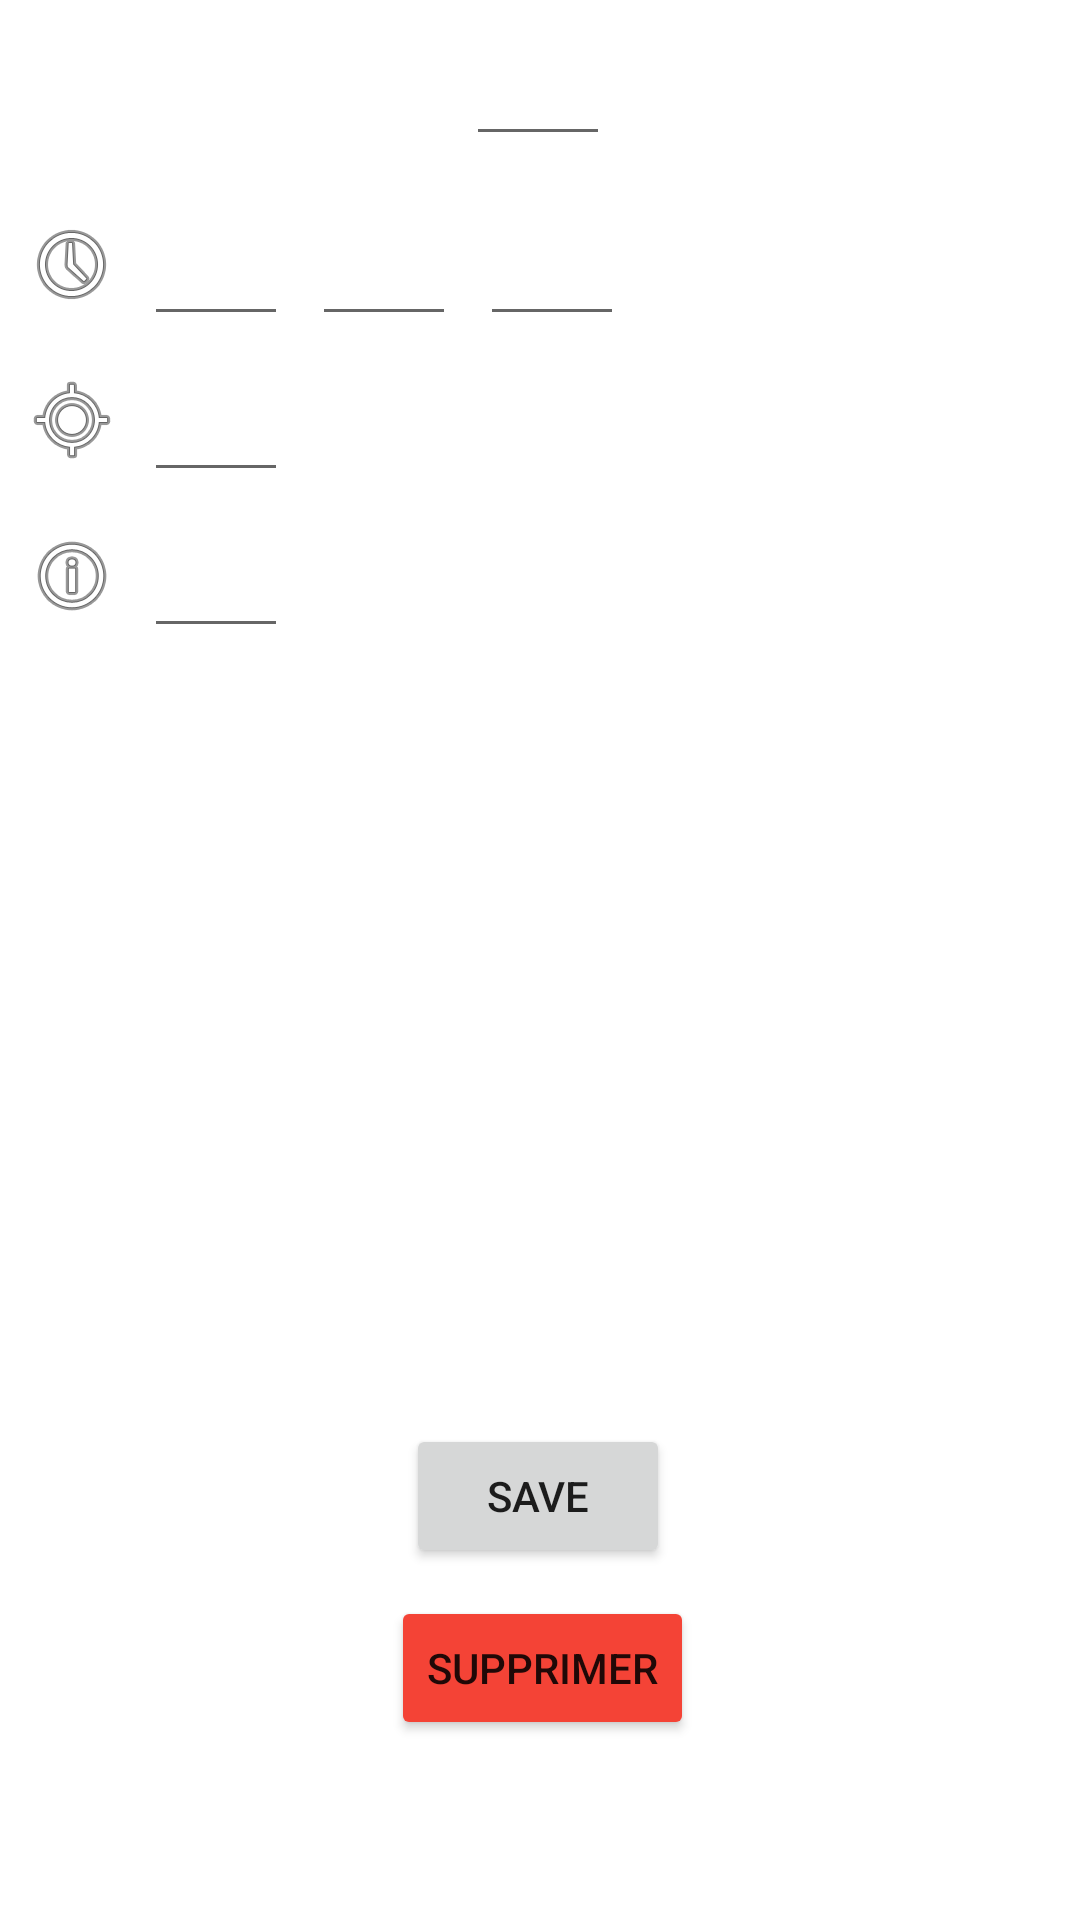

Named icons in this screenshot (1080 × 1920) and their bounding boxes, region(x1, y1, x2, y2):
info details: region(37, 541, 107, 611)
mylocation: region(34, 382, 110, 458)
recent history: region(37, 230, 106, 299)
